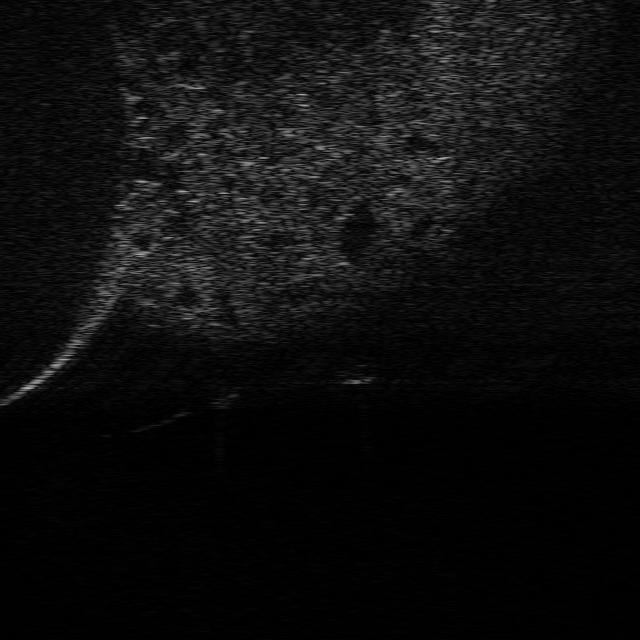cube: (332, 363, 377, 387)
cylinder: (210, 382, 236, 414)
